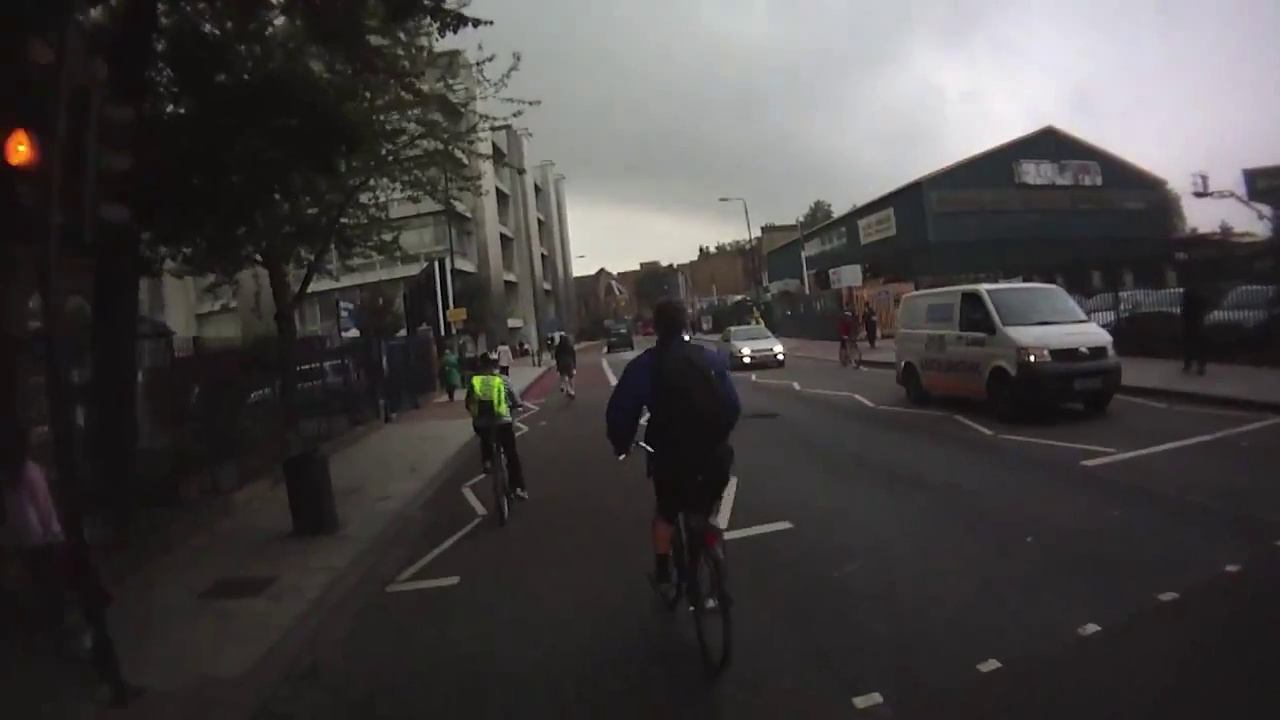cyclist_back: (602, 298, 747, 657), (461, 355, 524, 533), (552, 333, 582, 404)
cyclist_front: (837, 302, 862, 369)
